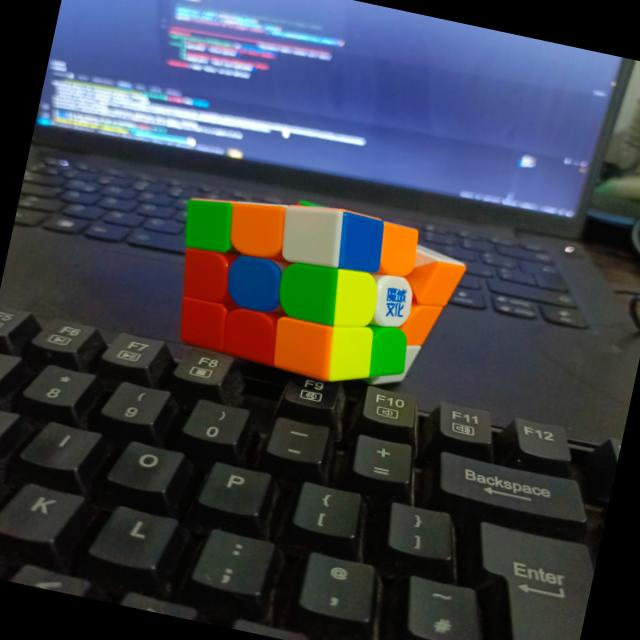rubik: (154, 175, 472, 404)
